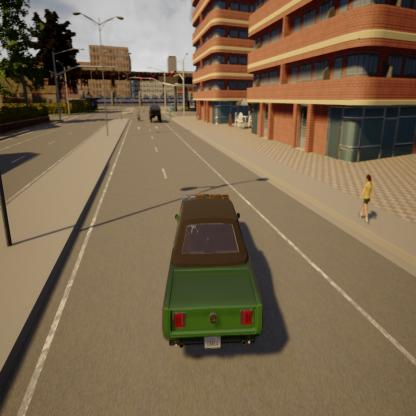Cars: (158, 185, 272, 366), (148, 101, 164, 127)
Pedestrian: (358, 170, 378, 229)
